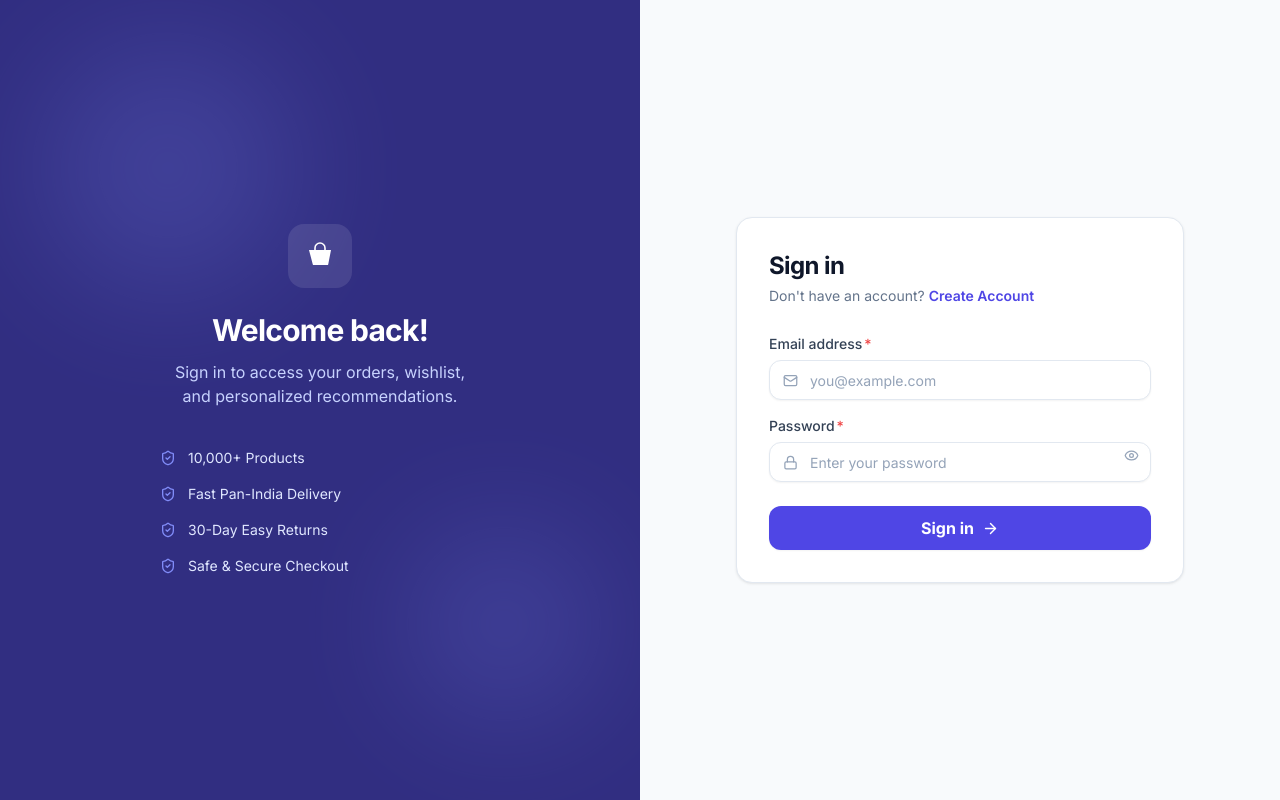
Test: LoginPage QA & Polish Pass › handles invalid authentication gracefully, displays error, and preserves entered email
Type "wrong@example.com" into the field labelled "Email address*" at x=960, y=380, box [769,360,1151,400]
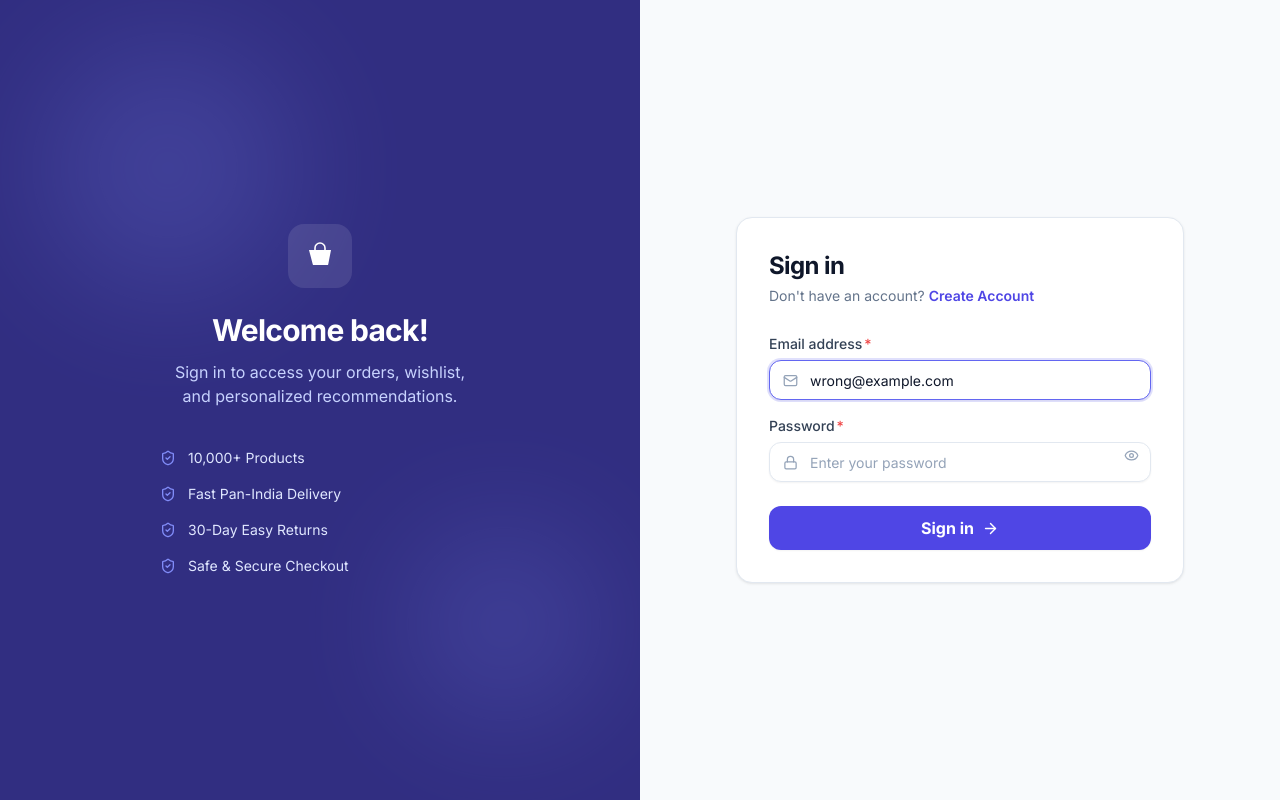
Type "wrongpass123" into the password field labelled "Password*" at x=960, y=462, box [769,442,1151,482]
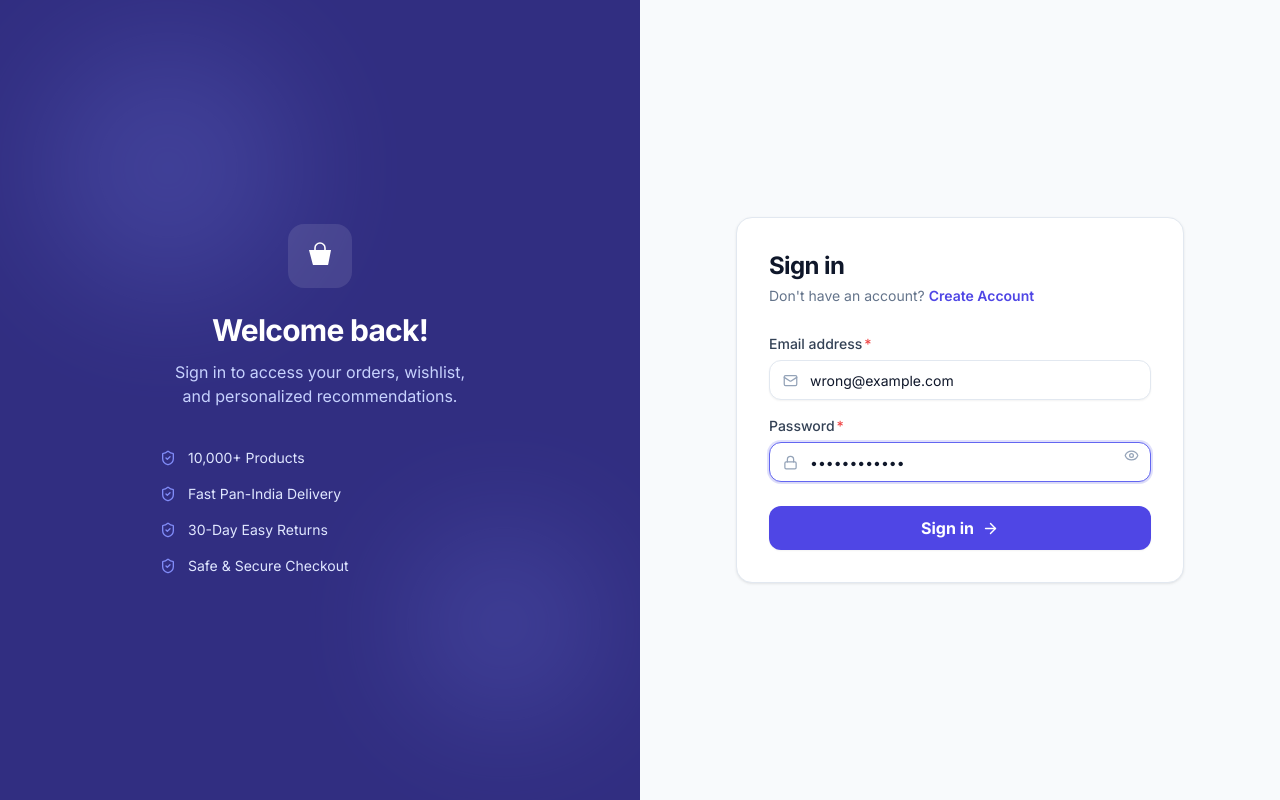
Click the button "Sign in" at x=960, y=528, box [769,506,1151,550]
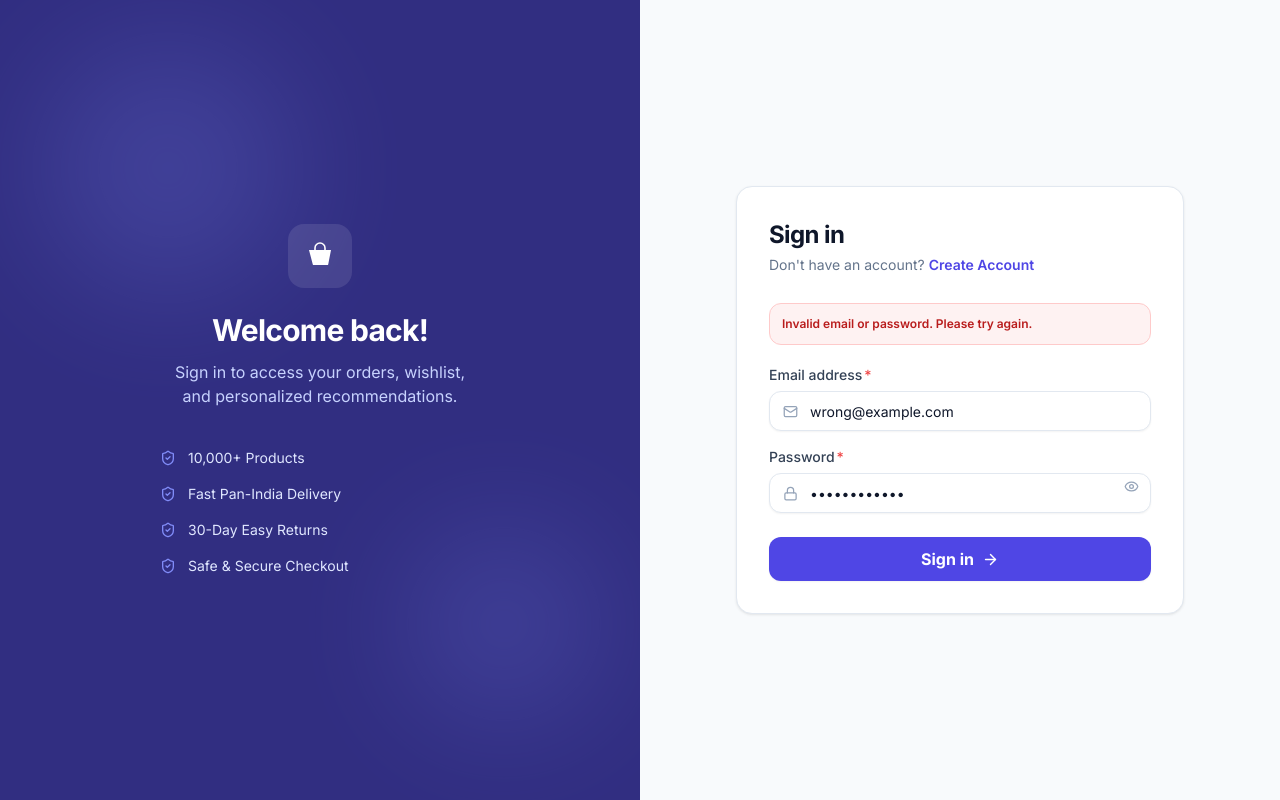
Expected: the message reads "Invalid email or password. Please try again.", [782,316,1032,331]
